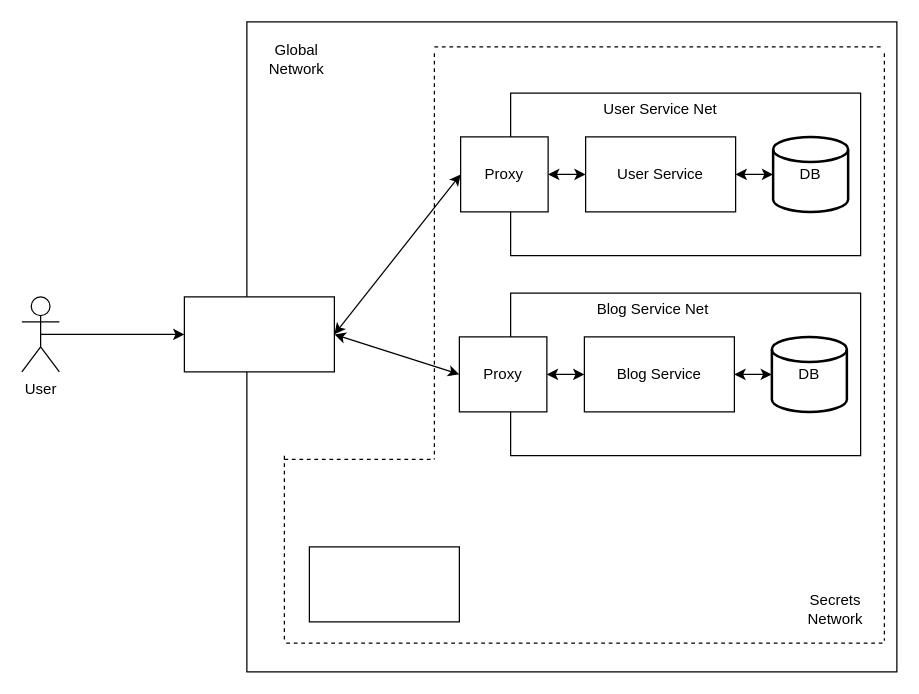
Image size: 919x694. Some labels were removed from this diagram. Each missing label, with the centre of its shape:
API Gateway (kinda): the point at 258,334
HashiCorp Vault: the point at 383,584
